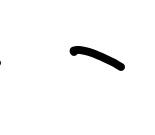minus: (69, 45, 126, 71)
